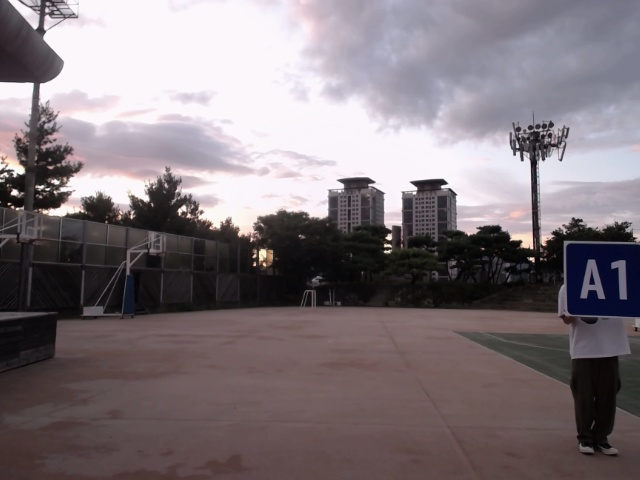delivery_a1: (564, 240, 638, 318)
